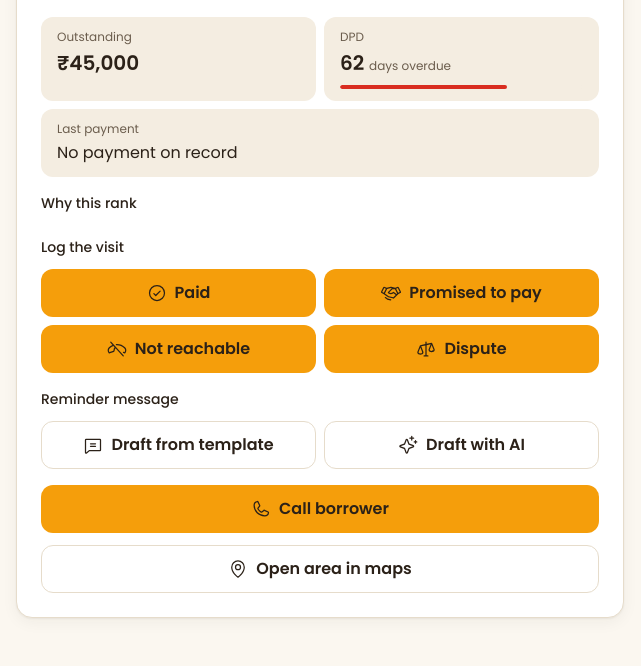
reminder panel › shows an error when drafting fails
(page scrolled)
Click the button "Draft from template": (178, 445) [41, 421, 316, 469]
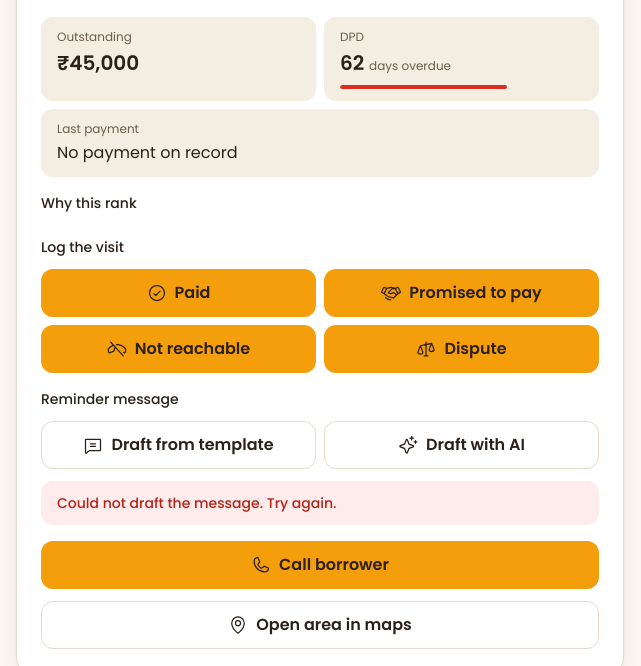
Now the message shows "Could not draft", box [57, 493, 336, 513]
